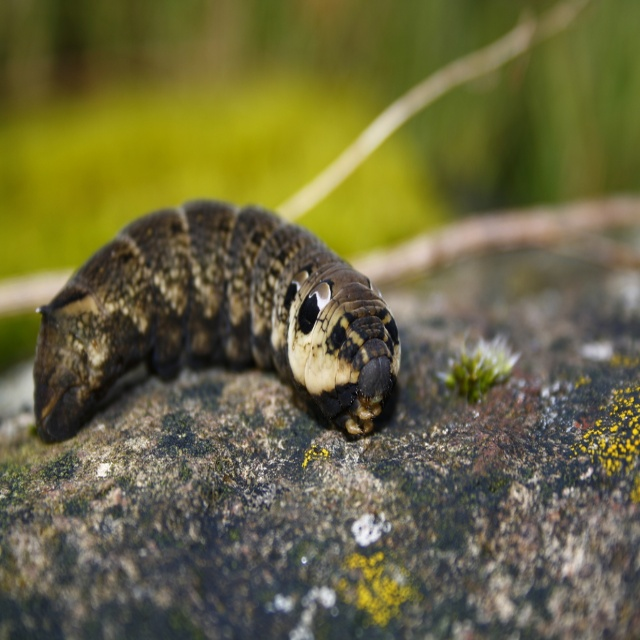Caterpillar: (34, 198, 401, 443)
